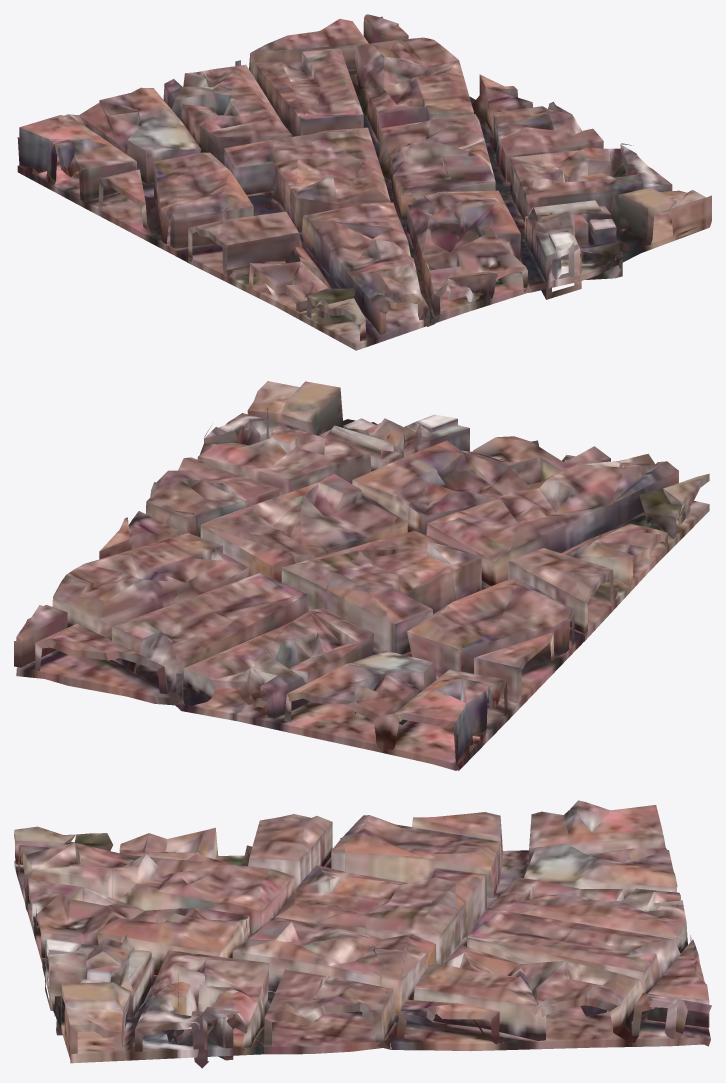
3 renders of one model, top to bottom at view 1: azimuth 30°, elevation 25°; view 2: azimuth 150°, elevation 25°; view 3: azimuth 270°, elevation 25°, orthographic. The views are drawn at different scales.
Visible parts, largest first — view 1: Mesh_0; view 2: Mesh_0; view 3: Mesh_0.
Part boxes in pixels (box(x1,y1,x2,y2)): Mesh_0: box(17, 14, 711, 350); Mesh_0: box(14, 381, 709, 770); Mesh_0: box(14, 800, 711, 1068).
Bounding box in the file's own units: 272 × 50.87 × 330.
Materials: 1 (1 with a texture image).
